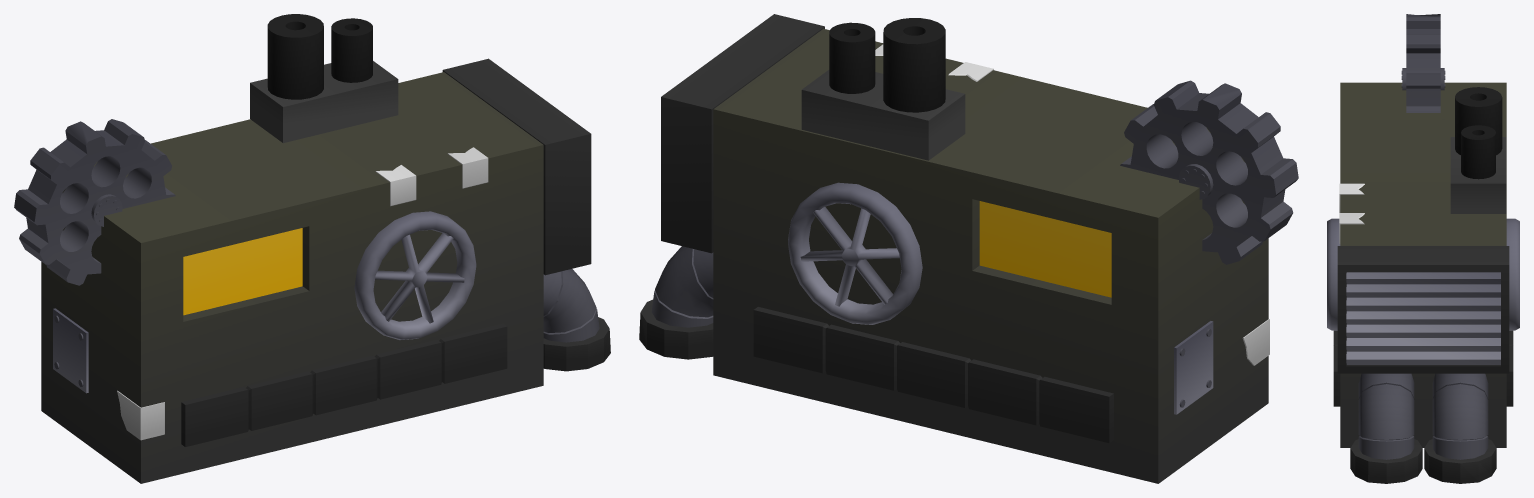
Rendered from Small Generator.fbx.
3 renders of one model, left to right at view 1: azimuth 30°, elevation 25°; view 2: azimuth 150°, elevation 25°; view 3: azimuth 270°, elevation 25°, orthographic. The views are drawn at different scales.
Visible parts, largest first — view 1: Small Generator, Object001; view 2: Small Generator, Object001; view 3: Small Generator, Object001.
Part boxes in pixels (bbox=[...]): Small Generator: bbox=[41, 14, 610, 483]; Object001: bbox=[14, 119, 175, 285]; Small Generator: bbox=[639, 14, 1269, 483]; Object001: bbox=[1120, 80, 1298, 264]; Small Generator: bbox=[1327, 68, 1519, 483]; Object001: bbox=[1406, 14, 1440, 112].
Bounding box in the file's own units: 1231 × 717 × 441.
